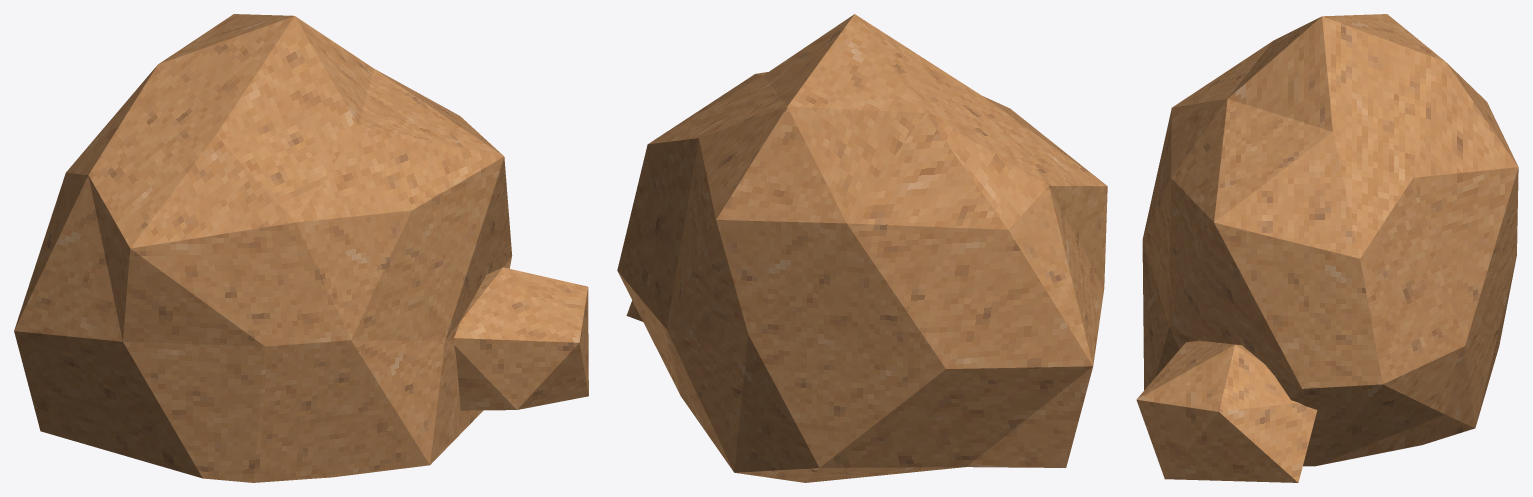
File: desert_boulder.glb
The picture shows the model from 3 angles, left to right: view 1: azimuth 30°, elevation 25°; view 2: azimuth 150°, elevation 25°; view 3: azimuth 270°, elevation 25°; orthographic projection. The views are drawn at different scales.
Parts seen in each view (by area): view 1: Boulder; view 2: Boulder; view 3: Boulder.
Boxes of the visible parts, x1,y1,x2,y2 form: Boulder: [14, 14, 588, 482]; Boulder: [617, 14, 1107, 482]; Boulder: [1136, 14, 1518, 482].
Size of the model in its own units: 3.3 by 2.57 by 2.26.
Materials: 1 (1 with a texture image).
